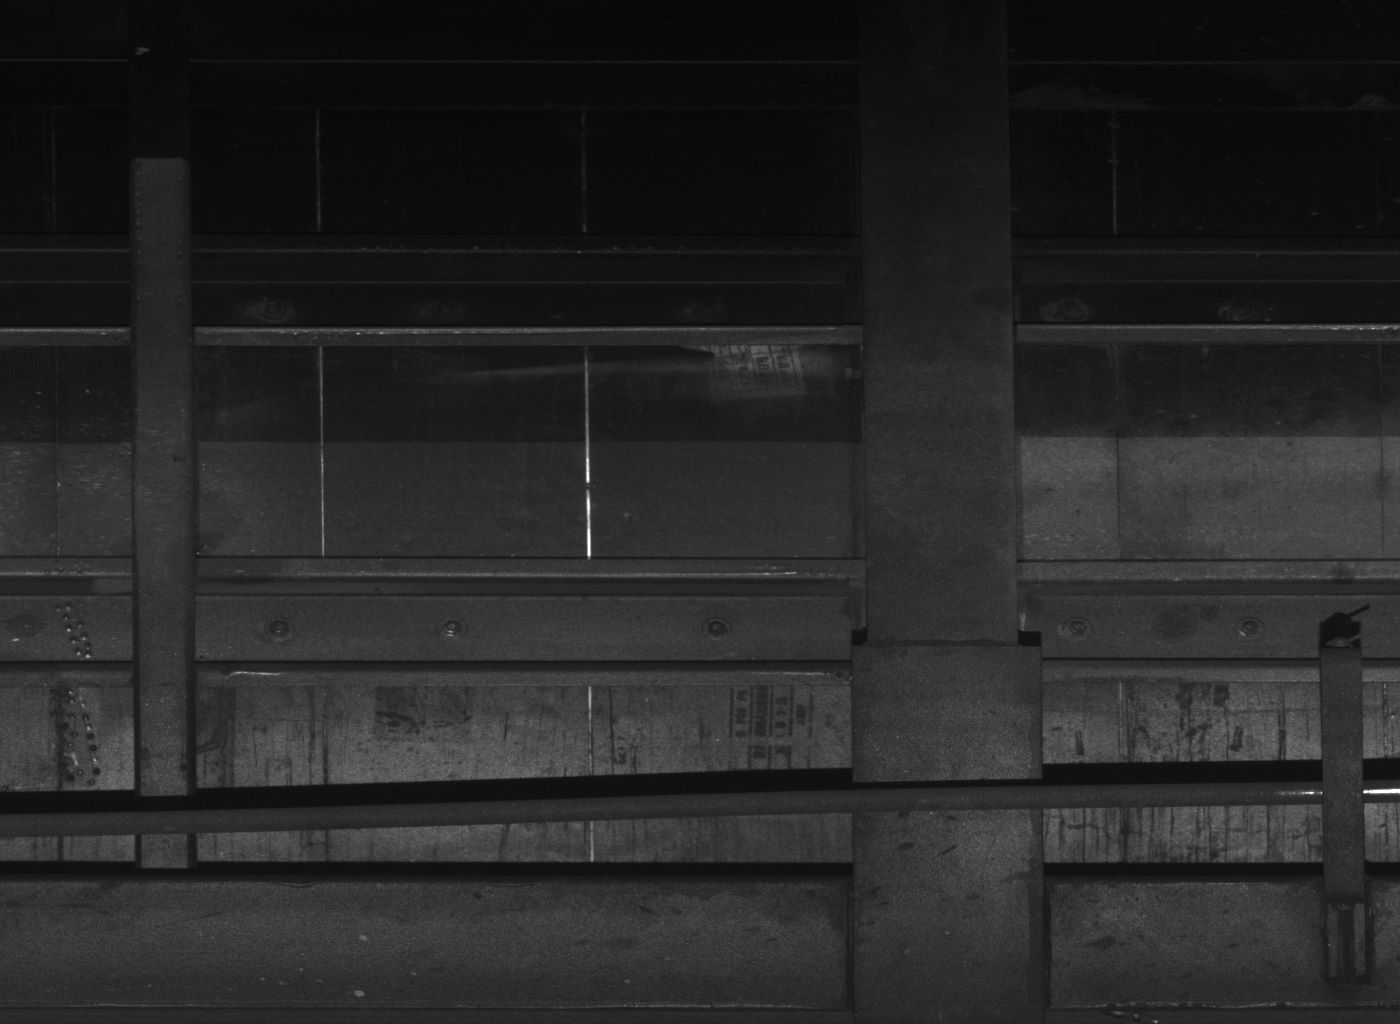normal: (1318, 636, 1370, 906)
